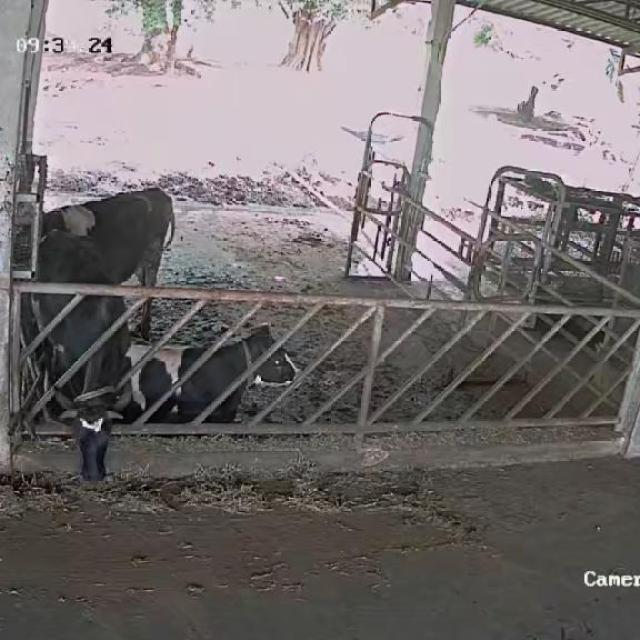feeding: (20, 228, 124, 488)
lying down: (95, 319, 304, 423)
